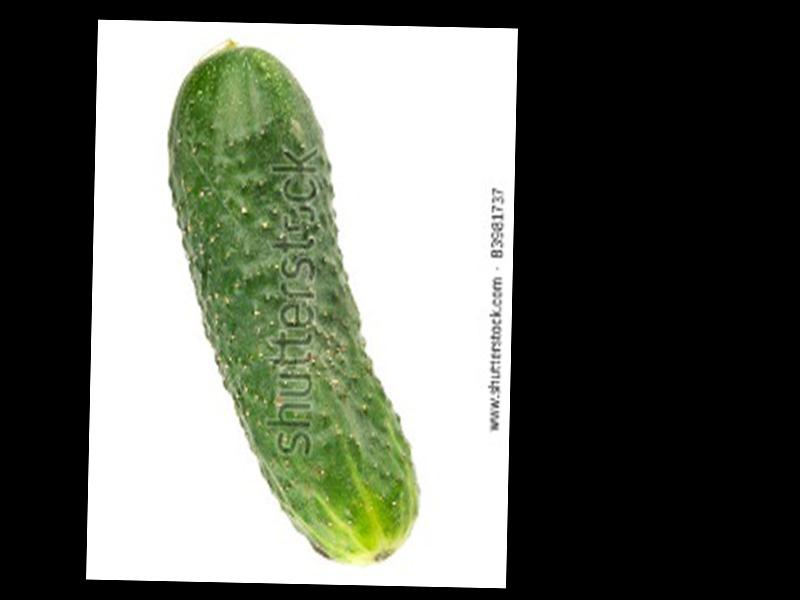Cucumber: (159, 42, 427, 563)
